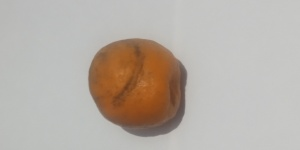BAD: (89, 37, 183, 129)
